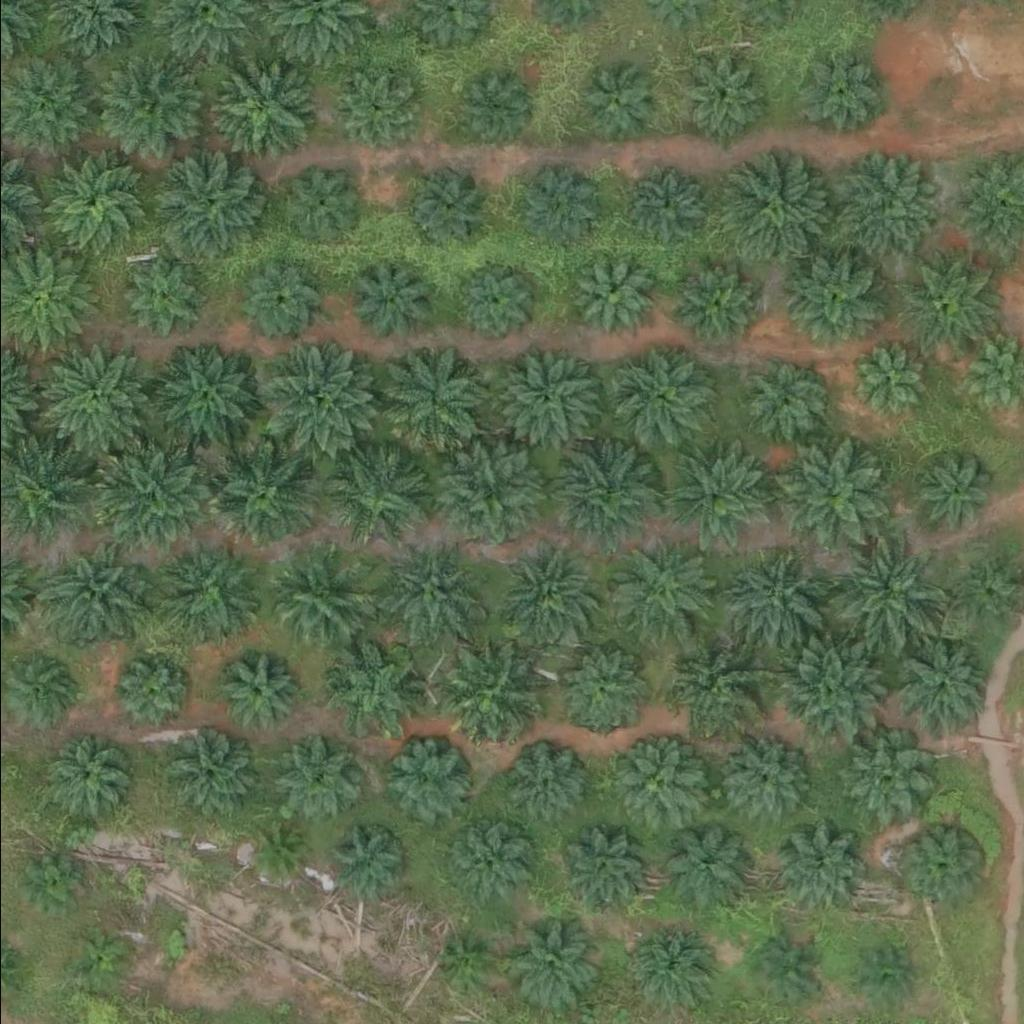Kelapa_Sawit: (830, 539, 955, 664), (824, 154, 938, 267), (717, 160, 831, 273), (91, 441, 205, 554), (260, 341, 374, 454), (778, 441, 891, 554), (659, 446, 772, 559), (550, 440, 663, 553), (149, 340, 262, 453), (34, 338, 147, 451), (93, 50, 206, 163), (431, 440, 545, 552), (33, 535, 147, 647), (202, 443, 316, 555), (373, 343, 487, 455), (263, 540, 376, 652), (153, 148, 266, 260), (36, 150, 149, 262), (200, 49, 313, 161), (899, 253, 1000, 353), (724, 554, 825, 654), (609, 544, 710, 644), (488, 544, 589, 644), (778, 642, 879, 742), (662, 634, 763, 734), (439, 648, 540, 748), (160, 721, 261, 821), (318, 643, 419, 743), (780, 253, 880, 353), (613, 350, 713, 450), (499, 353, 599, 453), (378, 547, 478, 647), (156, 544, 256, 644), (327, 443, 427, 543), (612, 740, 701, 828), (893, 643, 981, 731), (558, 644, 646, 732), (501, 740, 589, 828), (381, 739, 469, 827), (626, 923, 714, 1011), (276, 737, 364, 825), (331, 66, 419, 154), (906, 450, 995, 537), (342, 255, 430, 342), (448, 261, 536, 348), (403, 170, 491, 257), (839, 734, 927, 821), (714, 736, 802, 823), (772, 824, 860, 911), (659, 822, 747, 909), (557, 822, 645, 909), (439, 816, 527, 903), (507, 923, 595, 1010), (42, 733, 130, 820), (210, 647, 298, 734), (239, 259, 327, 346), (119, 254, 207, 341), (681, 59, 757, 134), (905, 829, 981, 904), (113, 657, 189, 732), (801, 54, 877, 129), (628, 174, 704, 249), (514, 172, 590, 247), (675, 266, 751, 341), (571, 261, 647, 336), (742, 368, 818, 443), (17, 846, 93, 921), (3, 652, 79, 727), (850, 343, 925, 418), (454, 65, 529, 140), (582, 67, 657, 142), (327, 825, 402, 900), (280, 167, 355, 242), (752, 940, 815, 1002), (955, 563, 1018, 625), (434, 936, 485, 986), (73, 938, 124, 988), (253, 830, 304, 880), (855, 950, 905, 1000)
